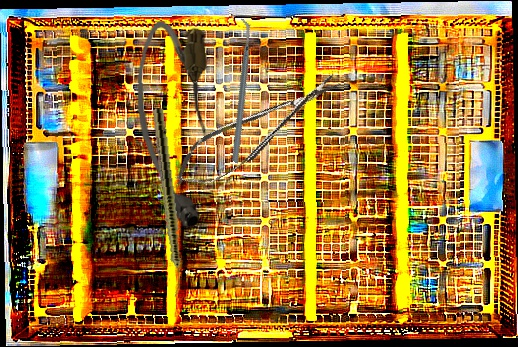Cannula: (134, 19, 213, 232)
Chopper: (178, 18, 301, 164)
Handpiece: (149, 107, 188, 299)
Micro Scissor: (163, 63, 353, 199)
